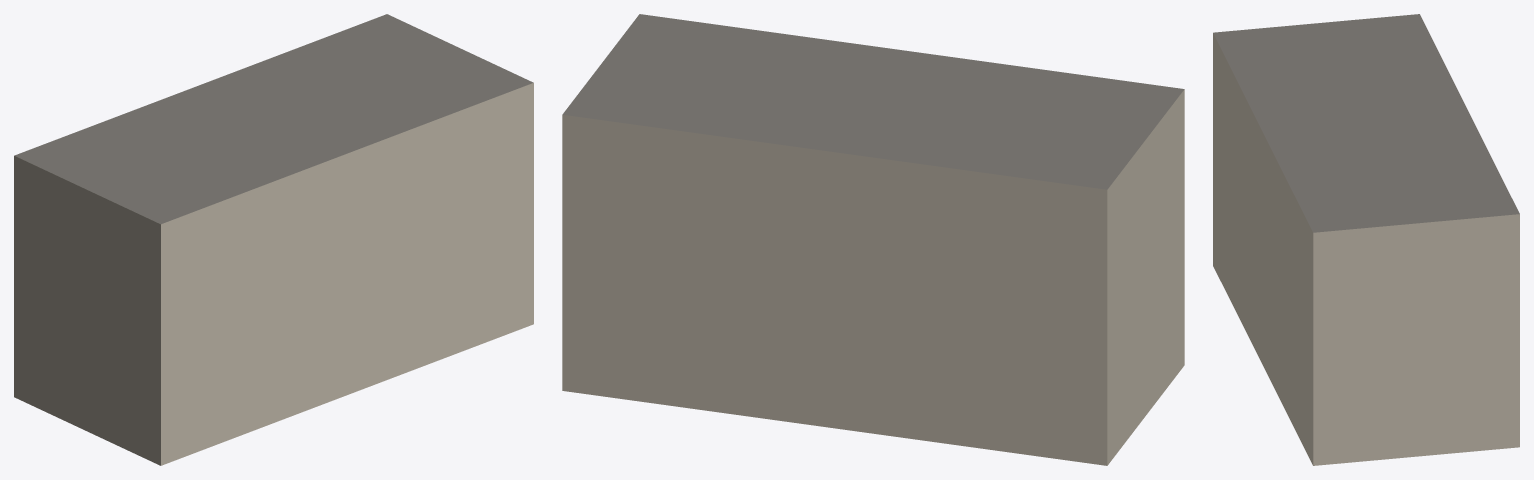
The picture shows the model from 3 angles, left to right: view 1: azimuth 30°, elevation 25°; view 2: azimuth 150°, elevation 25°; view 3: azimuth 270°, elevation 25°; orthographic projection. The views are drawn at different scales.
Parts seen in each view (by area): view 1: HP-w442027170; view 2: HP-w442027170; view 3: HP-w442027170.
Boxes of the visible parts, left/top/right/bottom form: HP-w442027170: left=14, top=14, right=533, bottom=465; HP-w442027170: left=562, top=14, right=1184, bottom=465; HP-w442027170: left=1213, top=14, right=1519, bottom=465.
Size of the model in its own units: 36.22 by 18 by 21.48.
